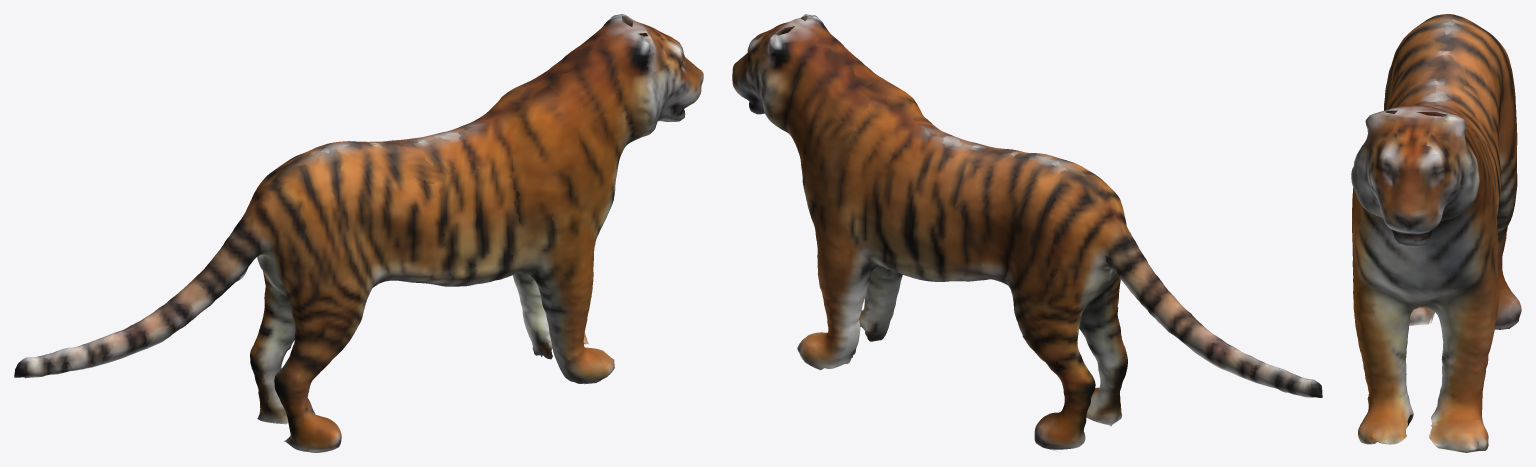
The model's file is Tiger done 1dnew.fbx.
3 views of the same model, side by side, from view 1: azimuth 30°, elevation 25°; view 2: azimuth 150°, elevation 25°; view 3: azimuth 270°, elevation 25° (orthographic). The views are drawn at different scales.
Visible parts, largest first — view 1: texturedMesh; view 2: texturedMesh; view 3: texturedMesh.
Part boxes in pixels (bbox=[...]): texturedMesh: bbox=[14, 14, 703, 452]; texturedMesh: bbox=[732, 14, 1322, 451]; texturedMesh: bbox=[1351, 14, 1521, 452].
Size of the model in its own units: 47.26 by 23.56 by 9.51.
Materials: 1 (1 with a texture image).
